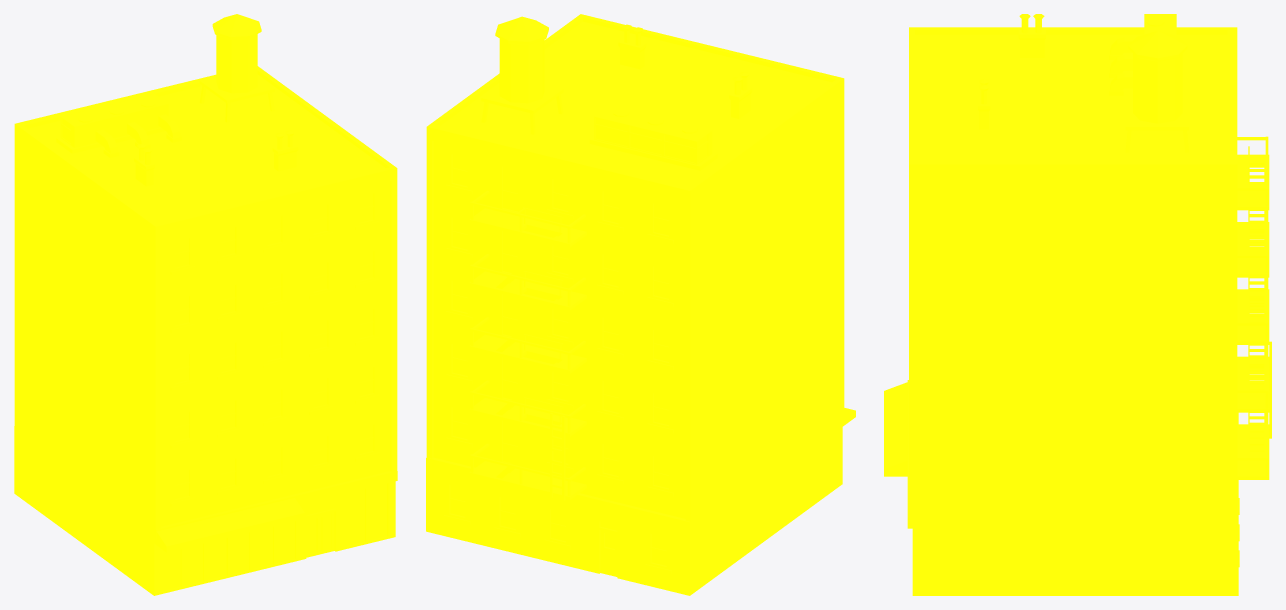
Rendered from building-block-5floor.glb.
3 renders of one model, left to right at view 1: azimuth 30°, elevation 25°; view 2: azimuth 150°, elevation 25°; view 3: azimuth 270°, elevation 25°, orthographic. The views are drawn at different scales.
Visible parts, largest first — view 1: building-block-5floor; view 2: building-block-5floor; view 3: building-block-5floor.
Part boxes in pixels (x1,y1,x2,y2): building-block-5floor: (14,14,397,595); building-block-5floor: (426,14,855,595); building-block-5floor: (884,14,1271,595).
Bounding box in the file's own units: 13.1 × 23.81 × 15.65.
1 material, 1 textured.
